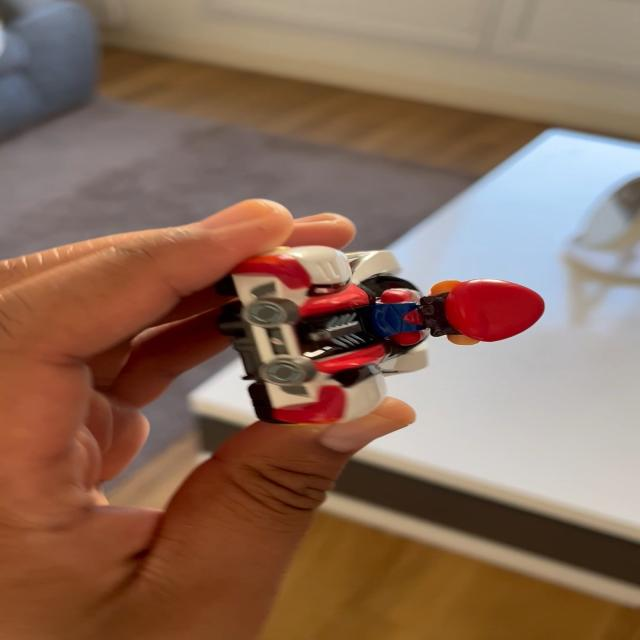mario: (210, 236, 563, 441)
